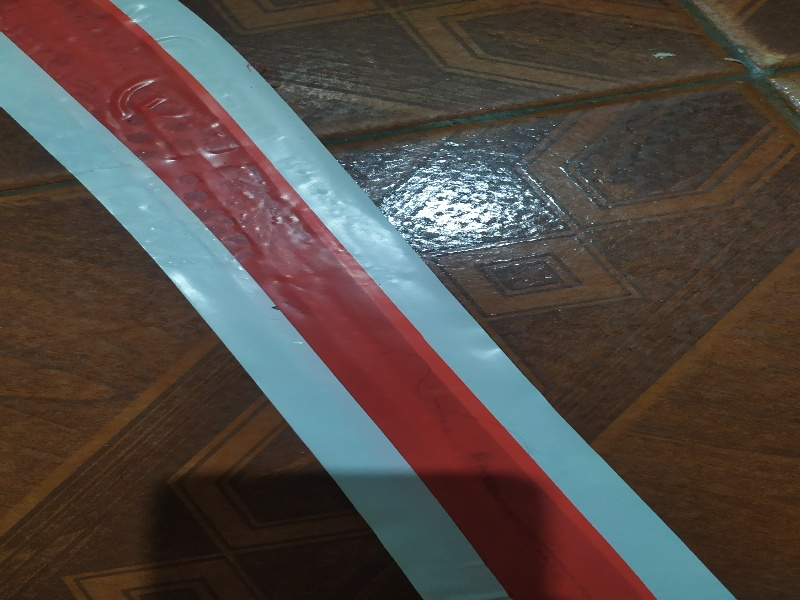saindoDireita: (1, 9, 777, 596)
